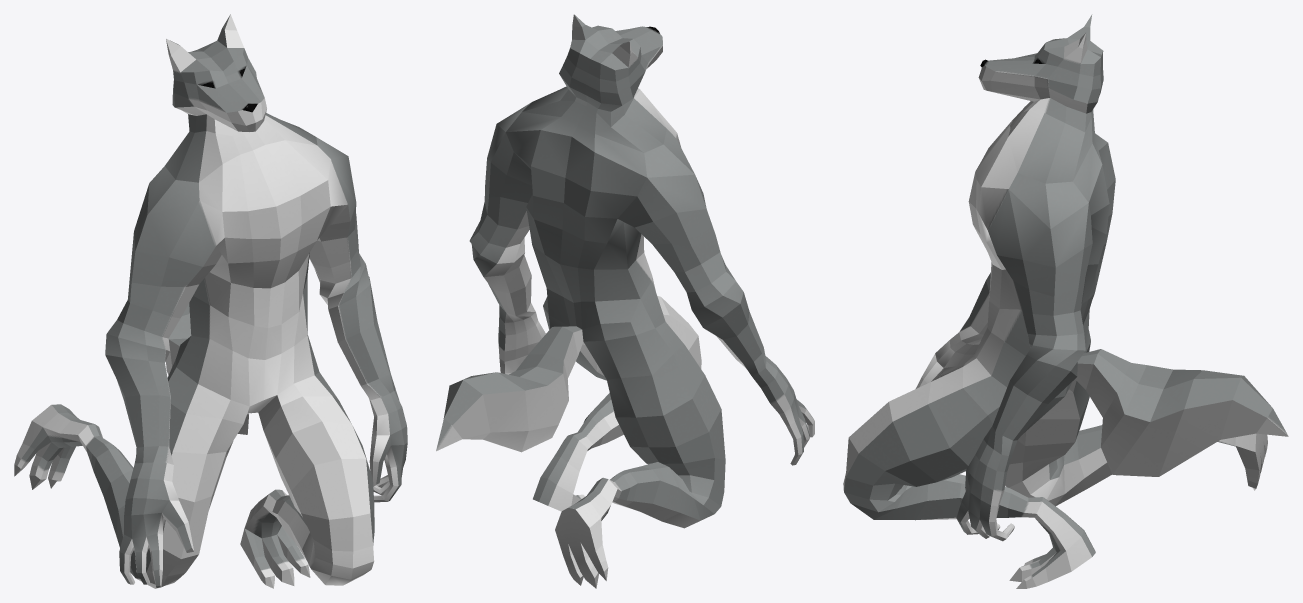
Rendered from WolfDead(28).obj.
The picture shows the model from 3 angles, left to right: view 1: azimuth 30°, elevation 25°; view 2: azimuth 150°, elevation 25°; view 3: azimuth 270°, elevation 25°; orthographic projection. The views are drawn at different scales.
Parts seen in each view (by area): view 1: Box001; view 2: Box001; view 3: Box001.
Part boxes in pixels (x1=…): Box001: x1=14, y1=14, x2=407, y2=588; Box001: x1=436, y1=14, x2=814, y2=588; Box001: x1=843, y1=14, x2=1288, y2=588.
Bounding box in the file's own units: 71.24 × 124 × 92.91.
